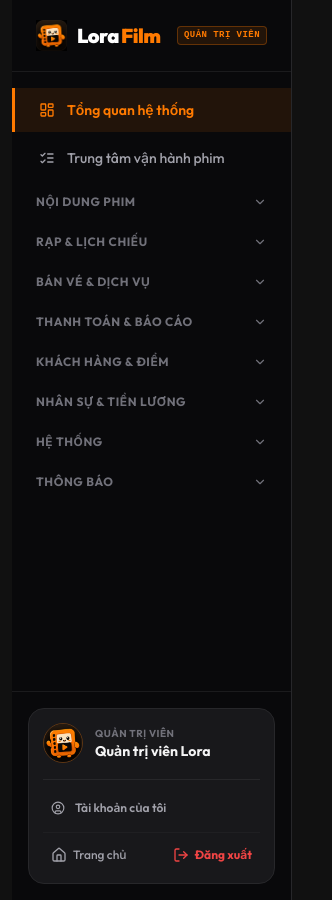
AdminSidebar › shows notification administration links for full administrators
The image size is (332, 900).
Click the button "Thông báo" at coordinates (75, 482), box [12, 464, 291, 500]
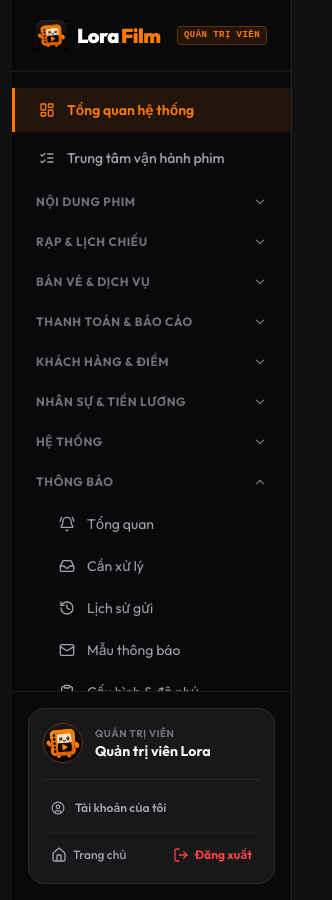
Check: the button "Tổng quan" is shown, box [12, 504, 291, 544]
Check: the button "Cần xử lý" is shown, box [12, 546, 291, 586]
Check: the button "Lịch sử gửi" is shown, box [12, 588, 291, 628]
